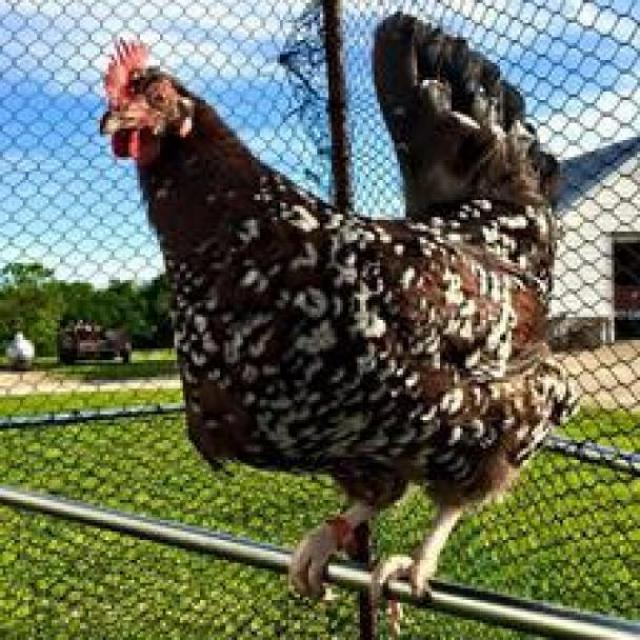Chicken: (37, 12, 637, 608)
